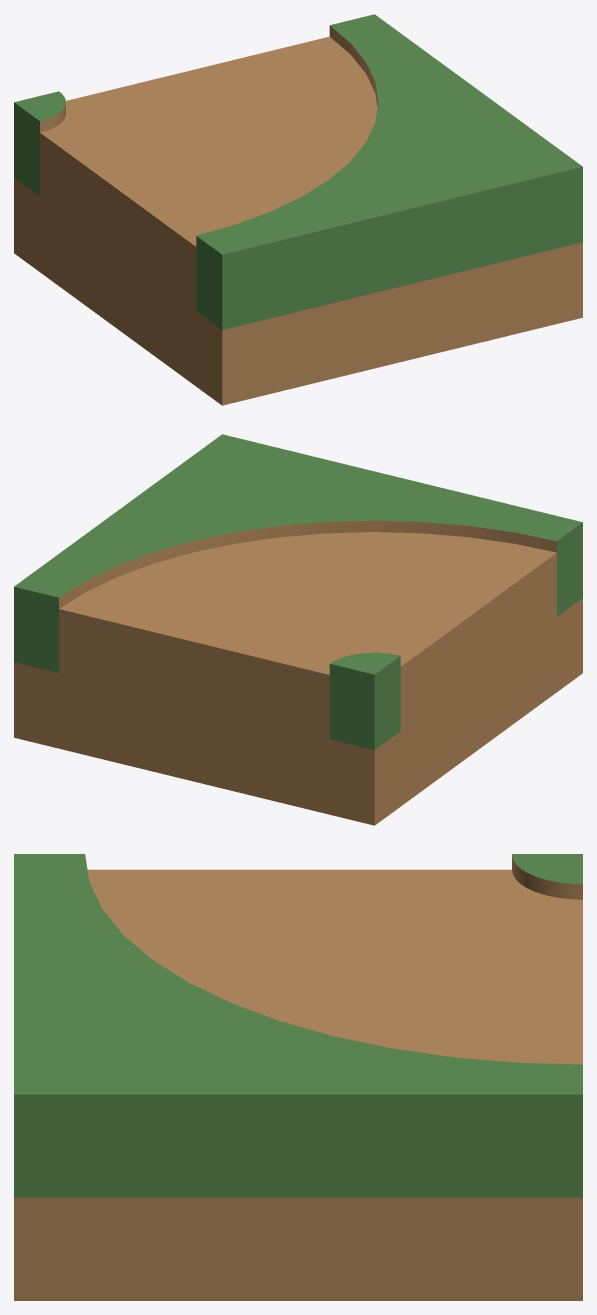
File: tile_094.obj
3 renders of one model, top to bottom at view 1: azimuth 30°, elevation 25°; view 2: azimuth 150°, elevation 25°; view 3: azimuth 270°, elevation 25°, orthographic. The views are drawn at different scales.
Visible parts, largest first — view 1: tile_094; view 2: tile_094; view 3: tile_094.
Boxes of the visible parts, bbox=[...] form: tile_094: bbox=[14, 14, 582, 405]; tile_094: bbox=[14, 434, 582, 825]; tile_094: bbox=[14, 854, 582, 1300].
Size of the model in its own units: 1 by 0.4 by 1.
